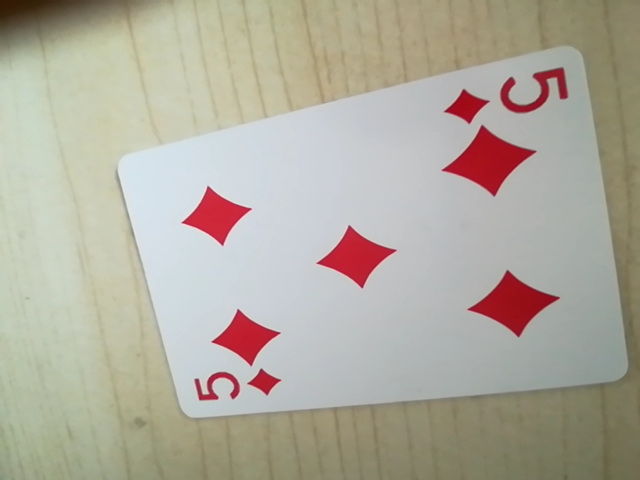fk 5: (444, 62, 570, 129), (189, 361, 288, 411)
